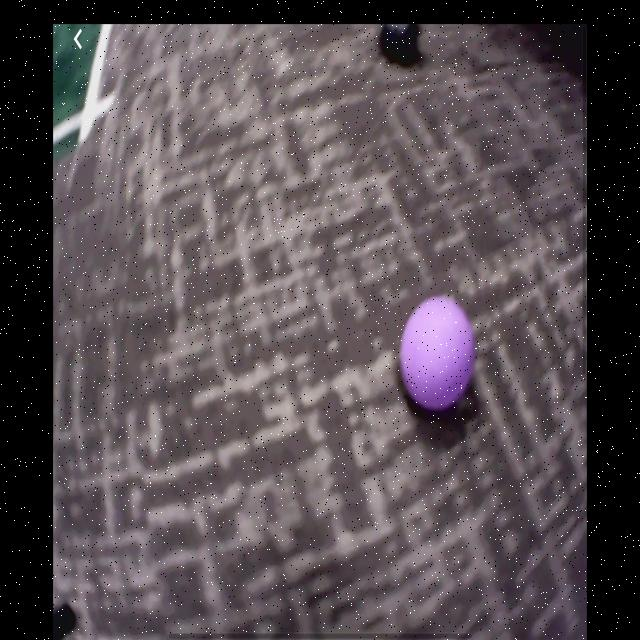ball: (399, 294, 477, 413)
